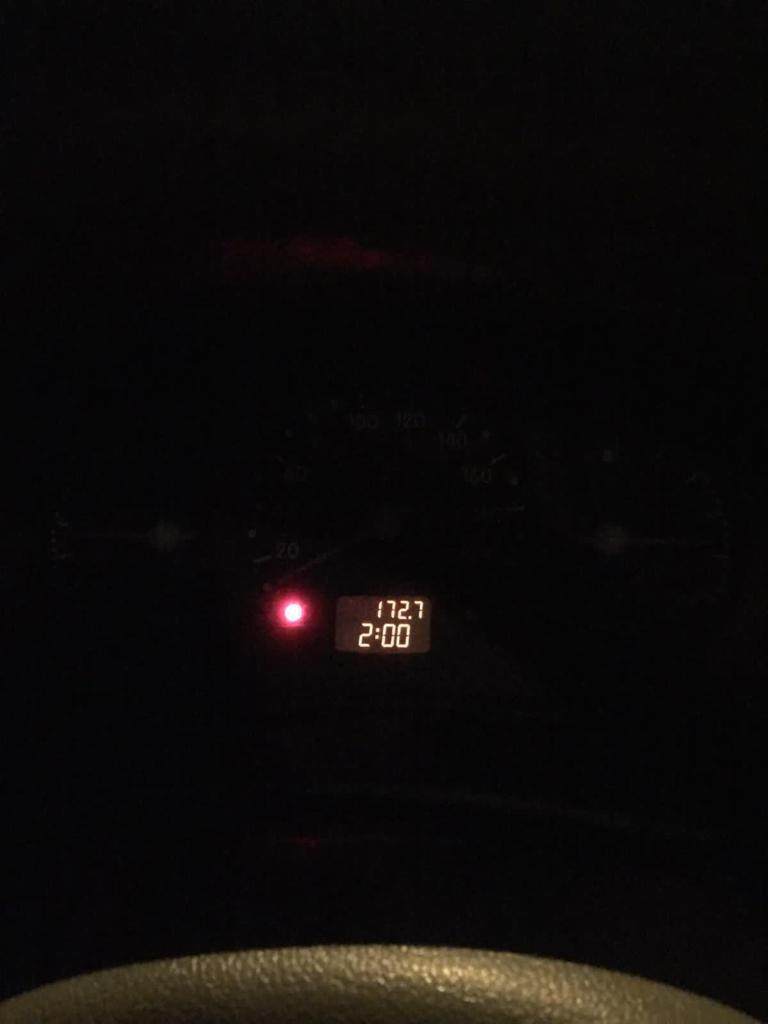,: (408, 615, 412, 619)
0: (395, 622, 410, 648), (381, 622, 395, 648)
1: (375, 599, 384, 619)
2: (356, 621, 372, 648), (396, 599, 409, 619)
7: (412, 599, 425, 619), (385, 599, 396, 618)
X: (374, 626, 380, 640)
odometer: (331, 592, 433, 655)
